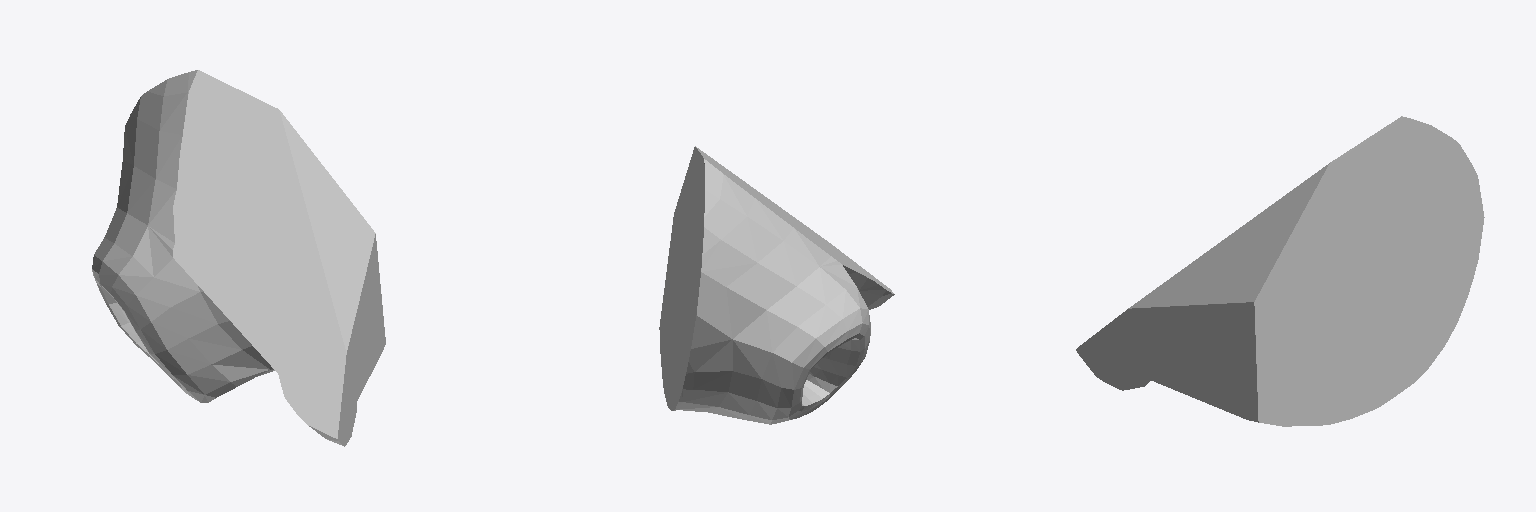
Rendered from FracturePartFracture_005.obj.
3 views of the same model, side by side, from view 1: azimuth 30°, elevation 25°; view 2: azimuth 150°, elevation 25°; view 3: azimuth 270°, elevation 25° (orthographic).
Visible parts, largest first — view 1: Fracture.005; view 2: Fracture.005; view 3: Fracture.005.
Part boxes in pixels (bbox=[...]): Fracture.005: bbox=[92, 70, 385, 446]; Fracture.005: bbox=[659, 146, 894, 424]; Fracture.005: bbox=[1076, 116, 1484, 426].
Bounding box in the file's own units: 1.55 × 1.75 × 2.29.